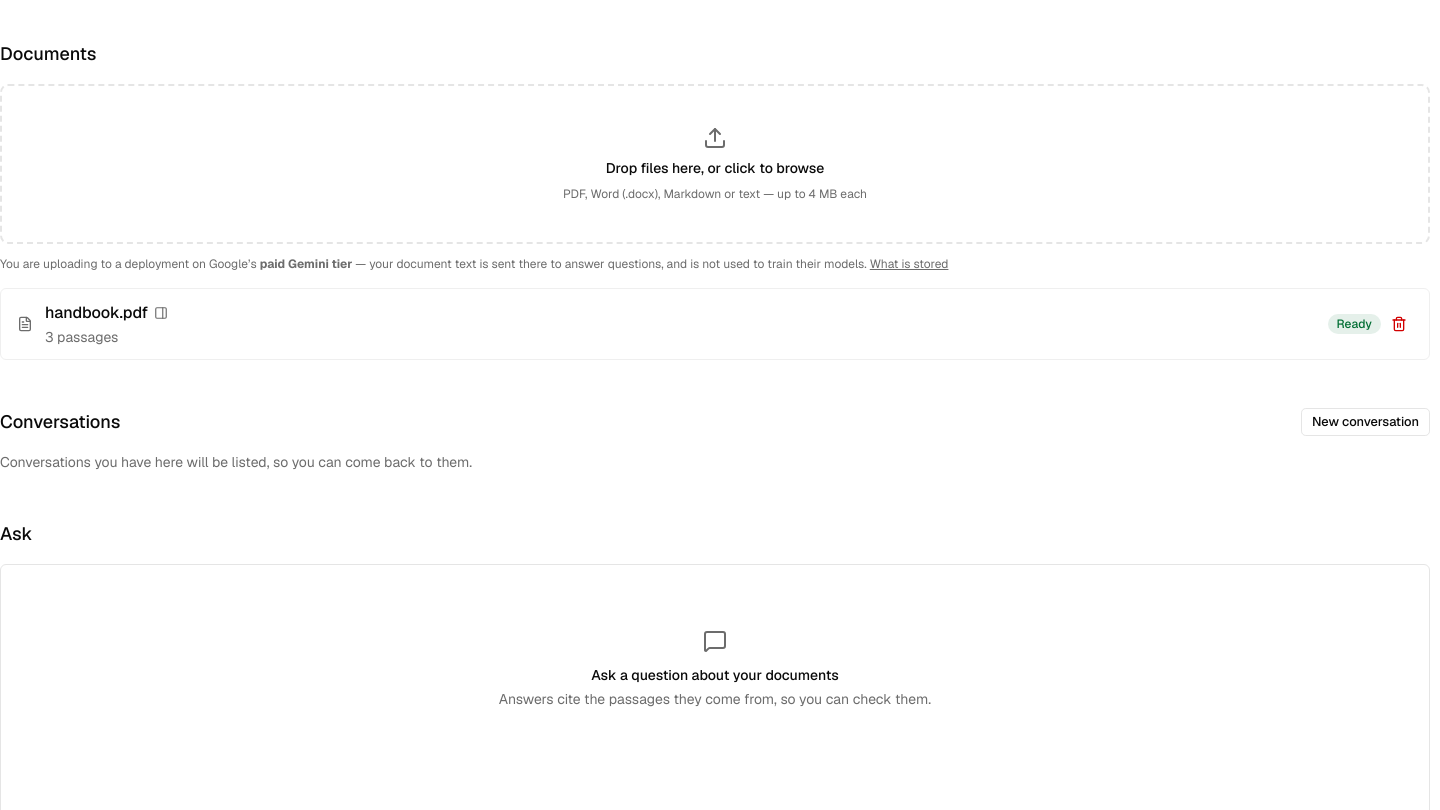
Test case: a delete or retry that fails › keeps a refused delete on screen, with the server's reason
Click the button named "Delete handbook.pdf" at (1399, 324), box [1385,310,1413,338]
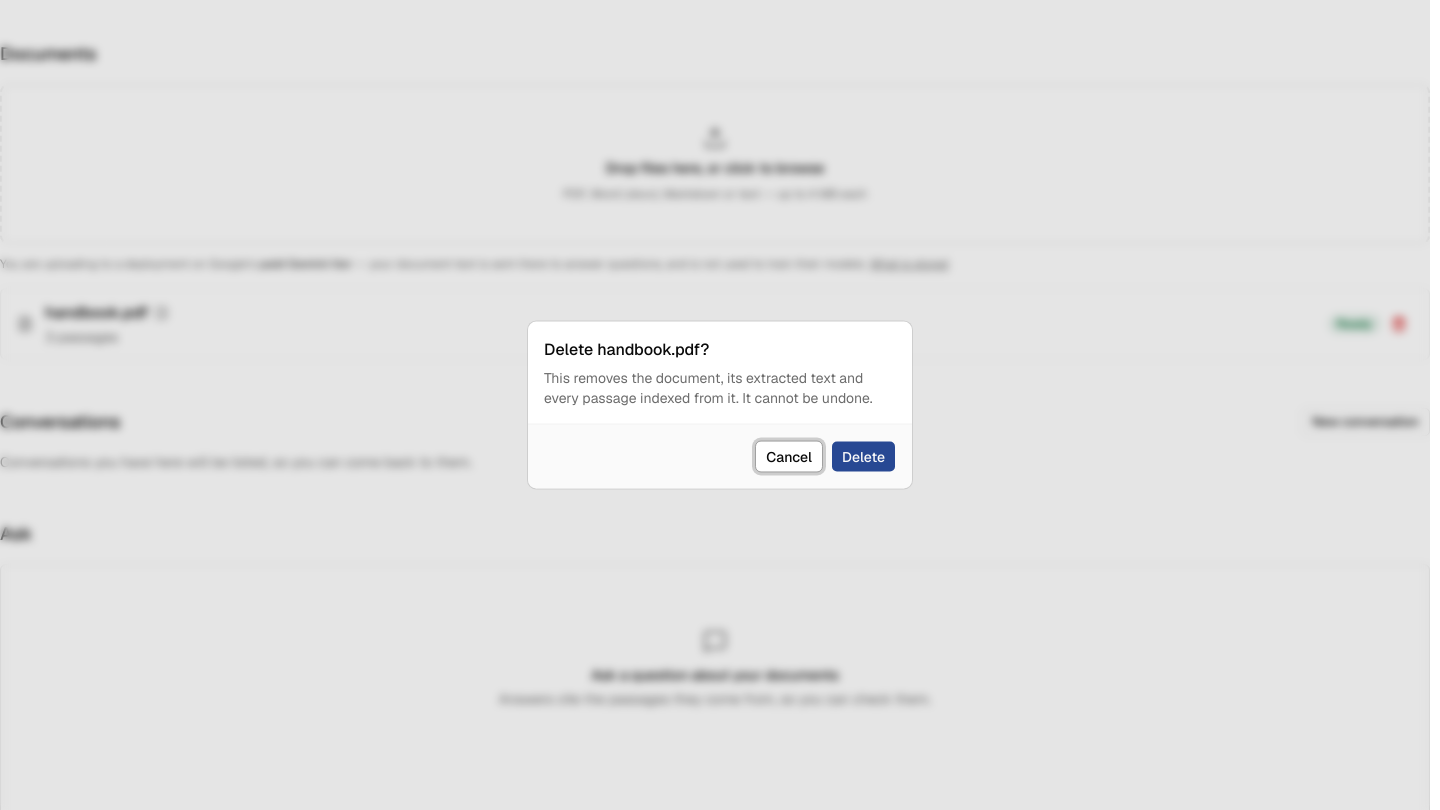
Click the button "Delete" at (863, 456), box [831,440,896,472]
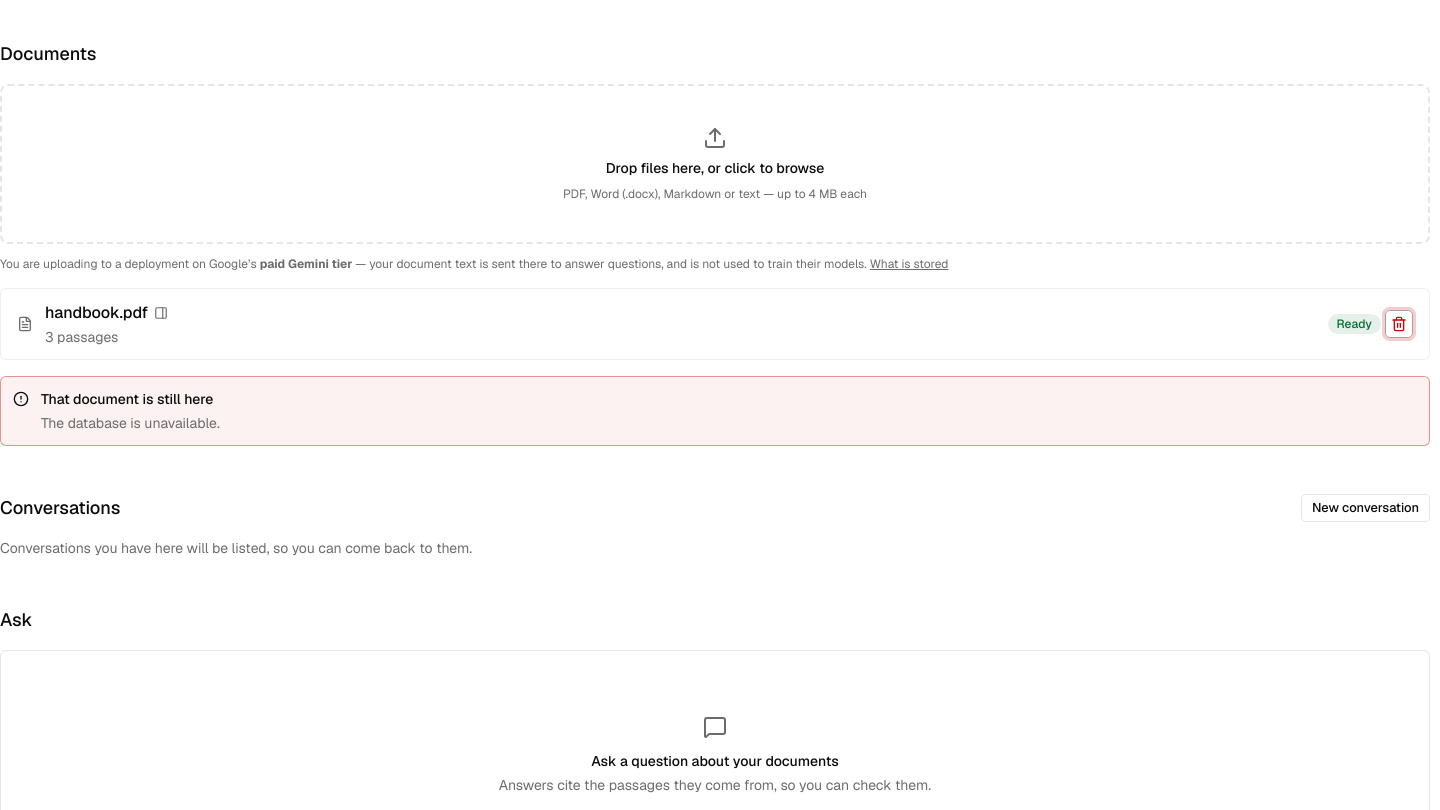
Expected: the text "handbook.pdf" is shown, [45,301,148,325]
Now the text "That document is still here" shows "The database is unavailable.", box [41,414,220,432]
